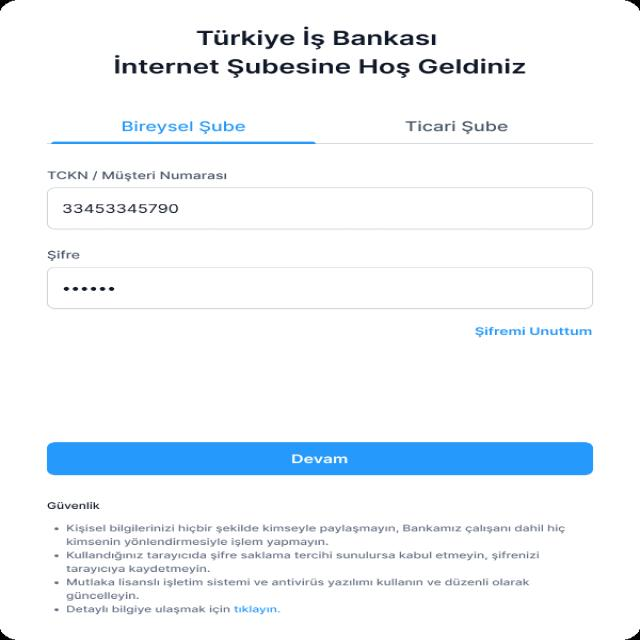QLabel: (101, 52, 533, 82), (182, 26, 463, 50), (52, 550, 544, 562), (51, 523, 572, 534), (51, 577, 531, 588), (104, 116, 256, 136), (62, 537, 332, 548), (43, 170, 228, 182), (397, 118, 512, 137), (467, 324, 596, 340), (50, 604, 230, 614), (61, 564, 211, 574), (286, 451, 353, 467), (64, 591, 145, 601), (44, 501, 102, 510), (233, 605, 282, 615), (45, 250, 81, 260)
VBtn: (48, 444, 594, 476), (232, 602, 284, 616)
VCard: (0, 0, 640, 640)
VTab: (43, 113, 321, 147), (334, 114, 596, 147)
VTabs: (32, 108, 604, 153)
VTextField: (49, 266, 598, 310), (49, 188, 597, 232)
